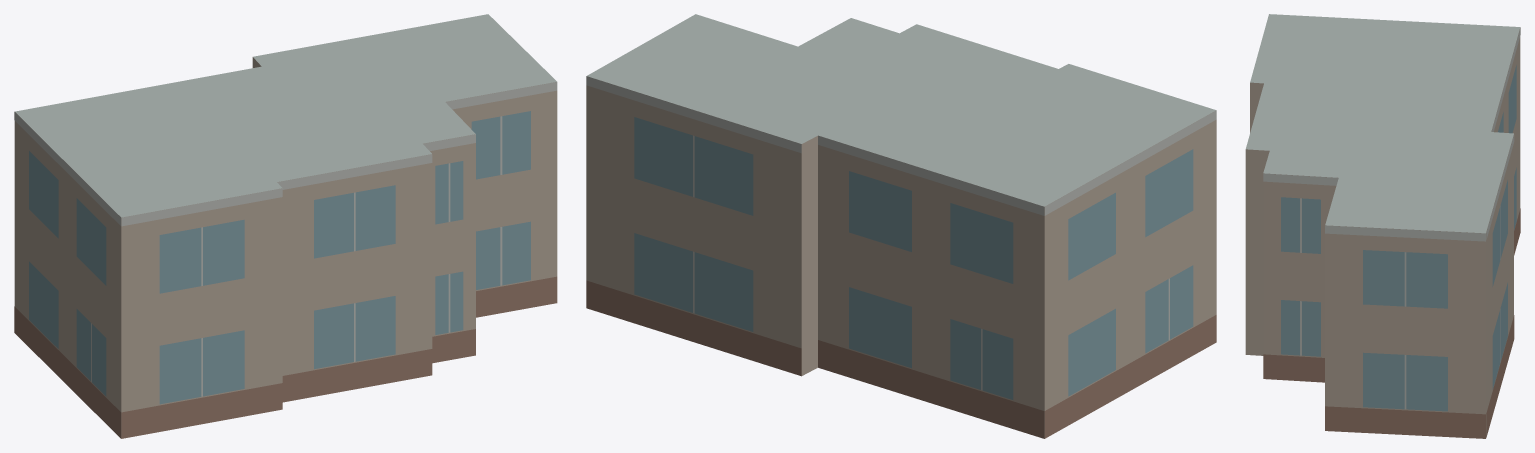
The model's file is survey-upis-32599737.glb.
The picture shows the model from 3 angles, left to right: view 1: azimuth 30°, elevation 25°; view 2: azimuth 150°, elevation 25°; view 3: azimuth 270°, elevation 25°; orthographic projection. The views are drawn at different scales.
Visible parts, largest first — view 1: survey-upis-32599737.tmp; view 2: survey-upis-32599737.tmp; view 3: survey-upis-32599737.tmp.
Boxes of the visible parts, x1,y1,x2,y2 form: survey-upis-32599737.tmp: [14, 14, 557, 438]; survey-upis-32599737.tmp: [586, 14, 1216, 438]; survey-upis-32599737.tmp: [1245, 14, 1520, 438].
Size of the model in its own units: 13.97 by 6.1 by 7.4.
